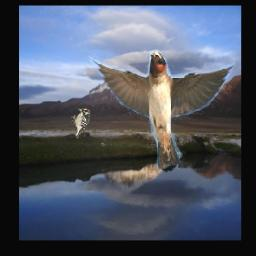Swallow: (88, 50, 235, 169)
Woodpecker: (71, 109, 90, 139)
